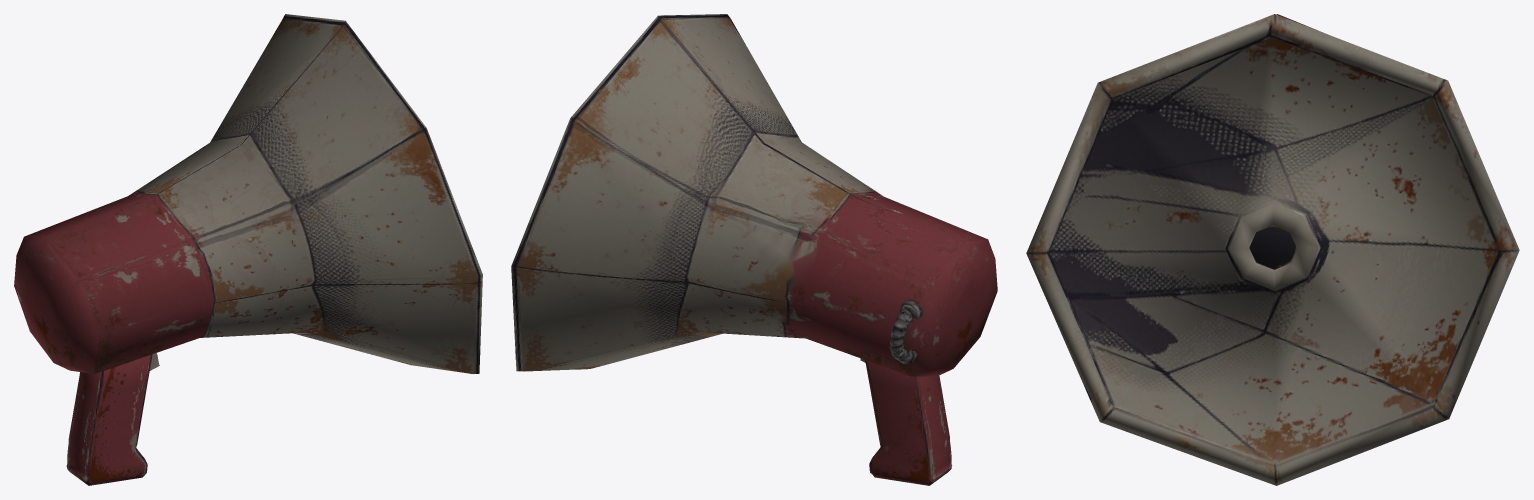
File: MegaPhone.glb
3 renders of one model, left to right at view 1: azimuth 30°, elevation 25°; view 2: azimuth 150°, elevation 25°; view 3: azimuth 270°, elevation 25°, orthographic. The views are drawn at different scales.
Visible parts, largest first — view 1: tripo_node_2d279678-c830-4bea-a1da-9433481f8dd4; view 2: tripo_node_2d279678-c830-4bea-a1da-9433481f8dd4; view 3: tripo_node_2d279678-c830-4bea-a1da-9433481f8dd4.
Boxes of the visible parts, bbox=[...] form: tripo_node_2d279678-c830-4bea-a1da-9433481f8dd4: bbox=[14, 14, 482, 485]; tripo_node_2d279678-c830-4bea-a1da-9433481f8dd4: bbox=[511, 14, 997, 485]; tripo_node_2d279678-c830-4bea-a1da-9433481f8dd4: bbox=[1026, 14, 1519, 485].
Size of the model in its own units: 0.998 by 0.9902 by 0.9434.
1 material, 1 textured.
